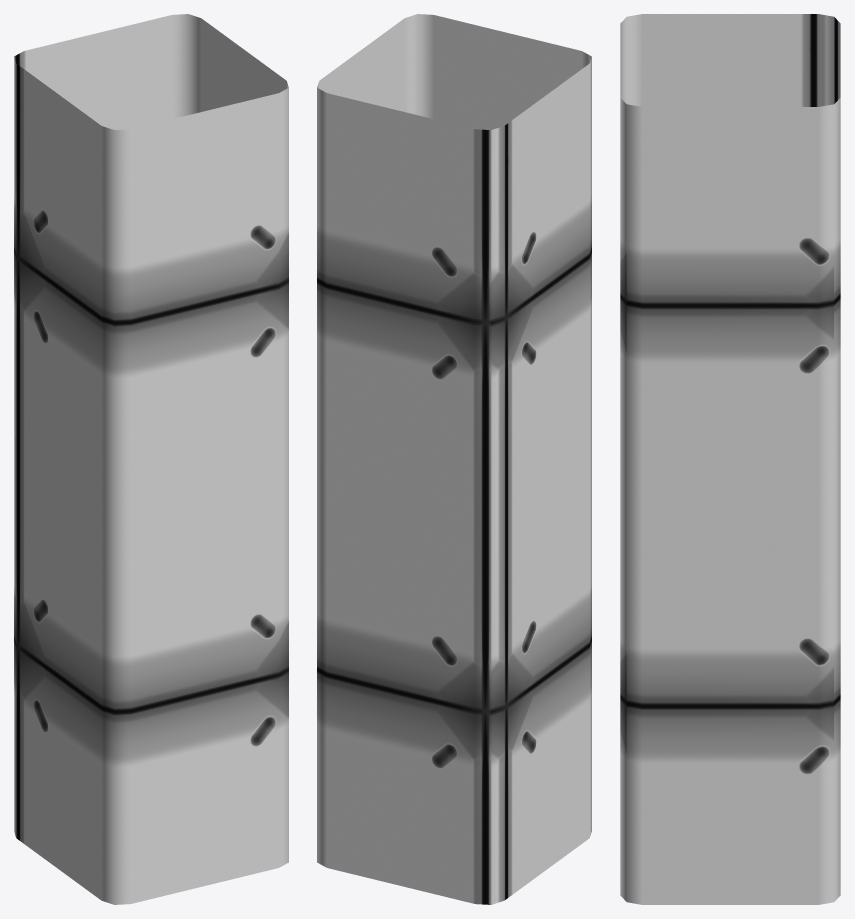
The model's file is MDL_Trim_1X2.fbx.
3 renders of one model, left to right at view 1: azimuth 30°, elevation 25°; view 2: azimuth 150°, elevation 25°; view 3: azimuth 270°, elevation 25°, orthographic. The views are drawn at different scales.
Parts seen in each view (by area): view 1: trim1x2; view 2: trim1x2; view 3: trim1x2.
Part boxes in pixels (x1=…): trim1x2: x1=14, y1=14, x2=288, y2=904; trim1x2: x1=317, y1=14, x2=591, y2=904; trim1x2: x1=620, y1=14, x2=840, y2=904.
Size of the model in its own units: 0.5 by 2 by 0.5.
